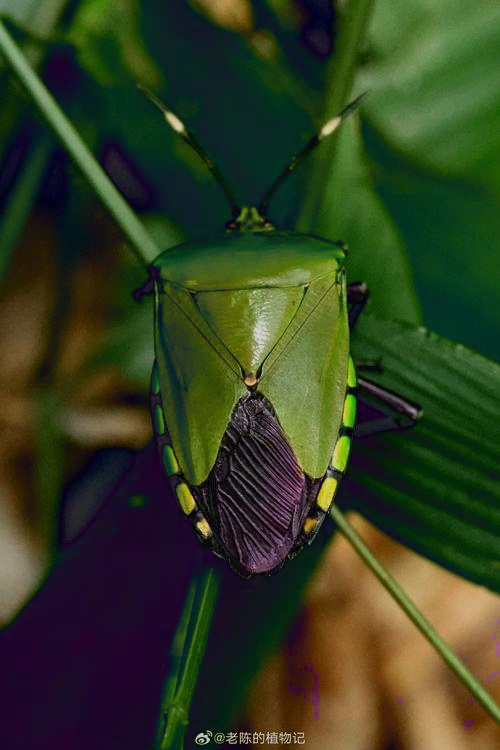Stink_Bug: (121, 141, 384, 545)
